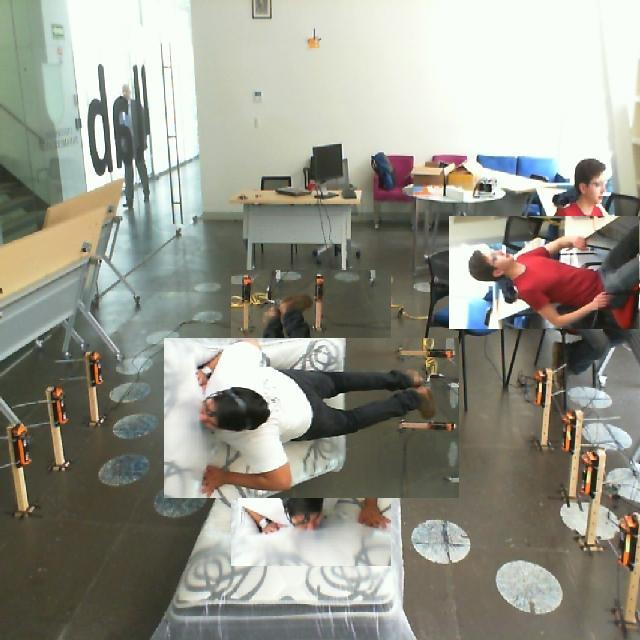Fall: (180, 312, 421, 496)
NotFall: (449, 203, 604, 337)
